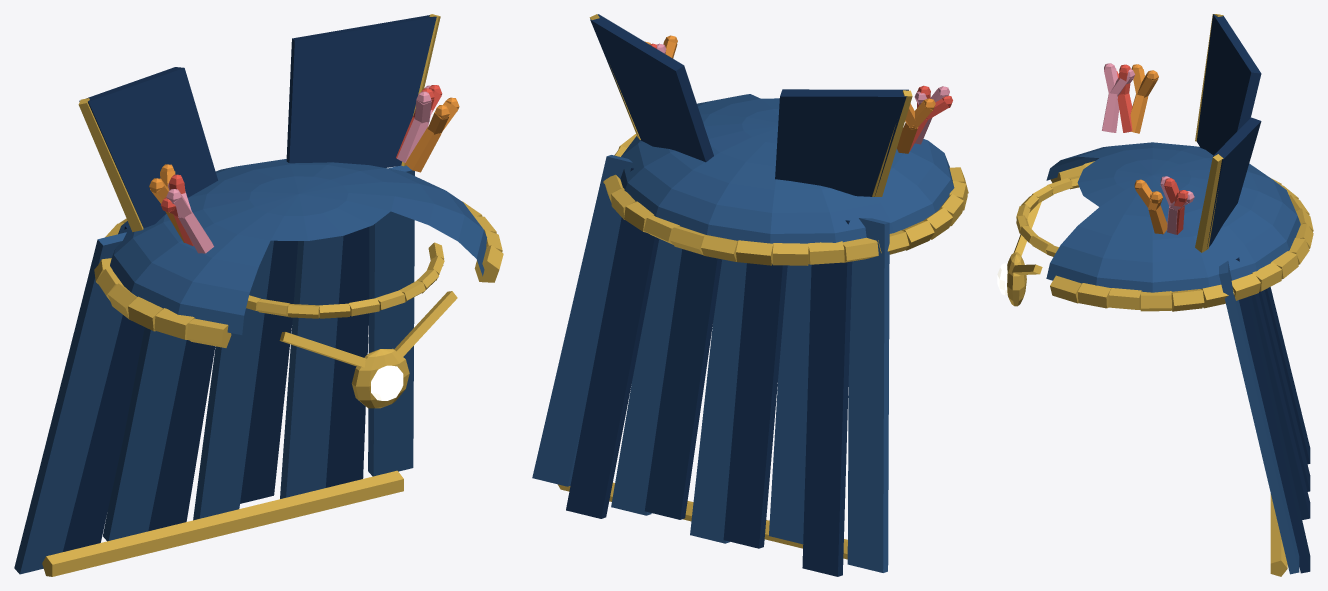
The model's file is tideking_mantle.glb.
The picture shows the model from 3 angles, left to right: view 1: azimuth 30°, elevation 25°; view 2: azimuth 150°, elevation 25°; view 3: azimuth 270°, elevation 25°; orthographic projection. The views are drawn at different scales.
Visible parts, largest first — view 1: tideking_mantle; view 2: tideking_mantle; view 3: tideking_mantle.
Part boxes in pixels (bbox=[...]): tideking_mantle: bbox=[14, 14, 503, 576]; tideking_mantle: bbox=[532, 14, 968, 576]; tideking_mantle: bbox=[997, 14, 1313, 576].
Size of the model in its own units: 1.39 by 1.72 by 1.16.
